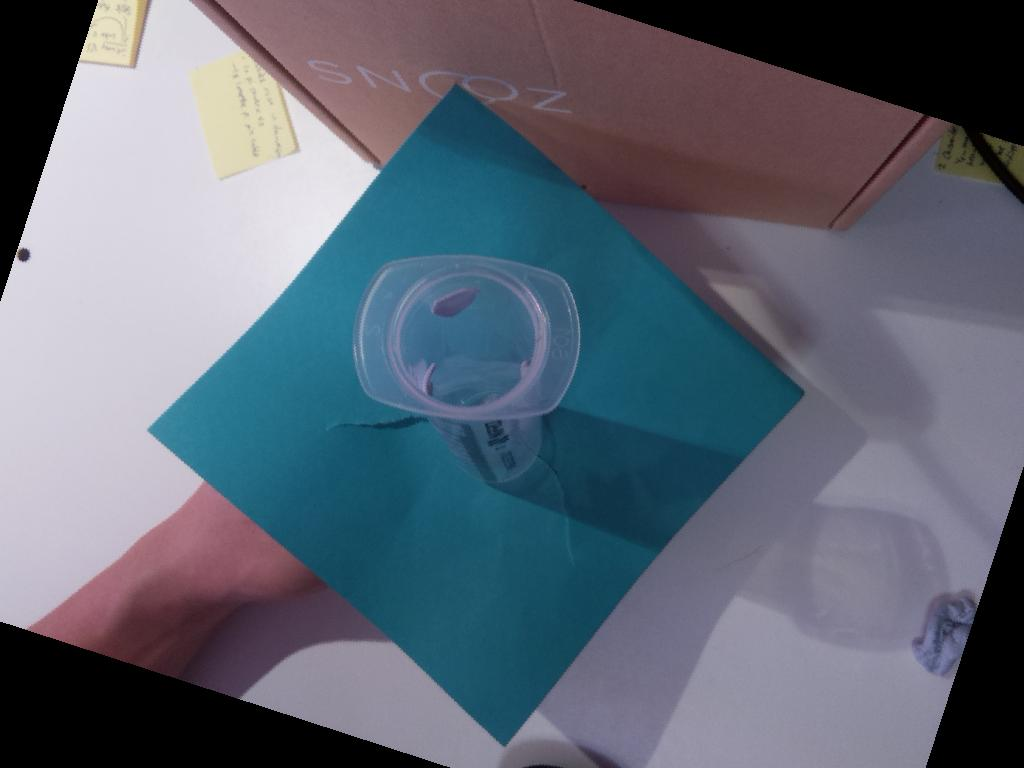dirty: (352, 255, 580, 418)
